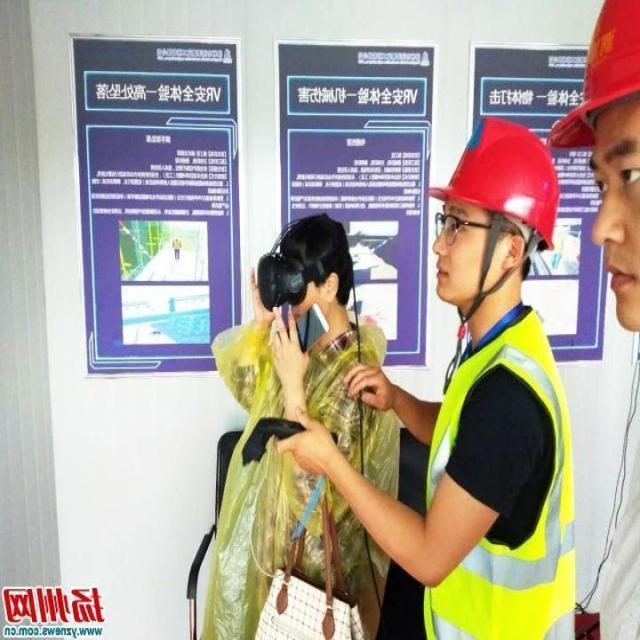helmet: (418, 112, 558, 256)
jacket: (416, 314, 576, 638)
